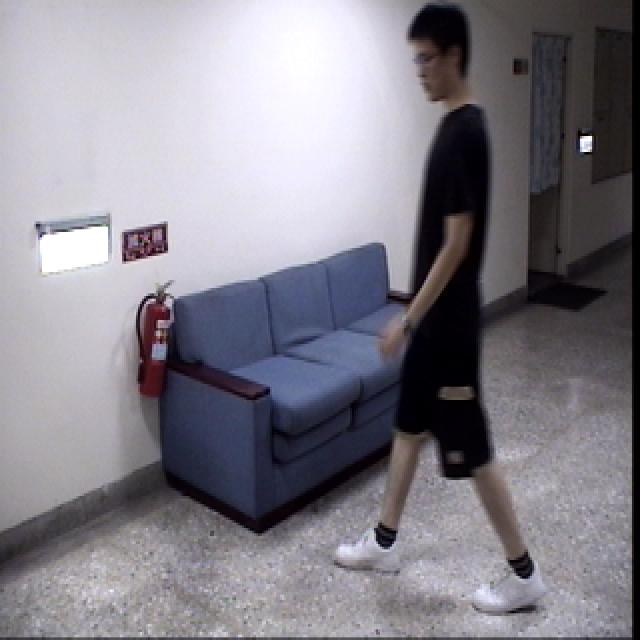stand: (331, 0, 551, 611)
